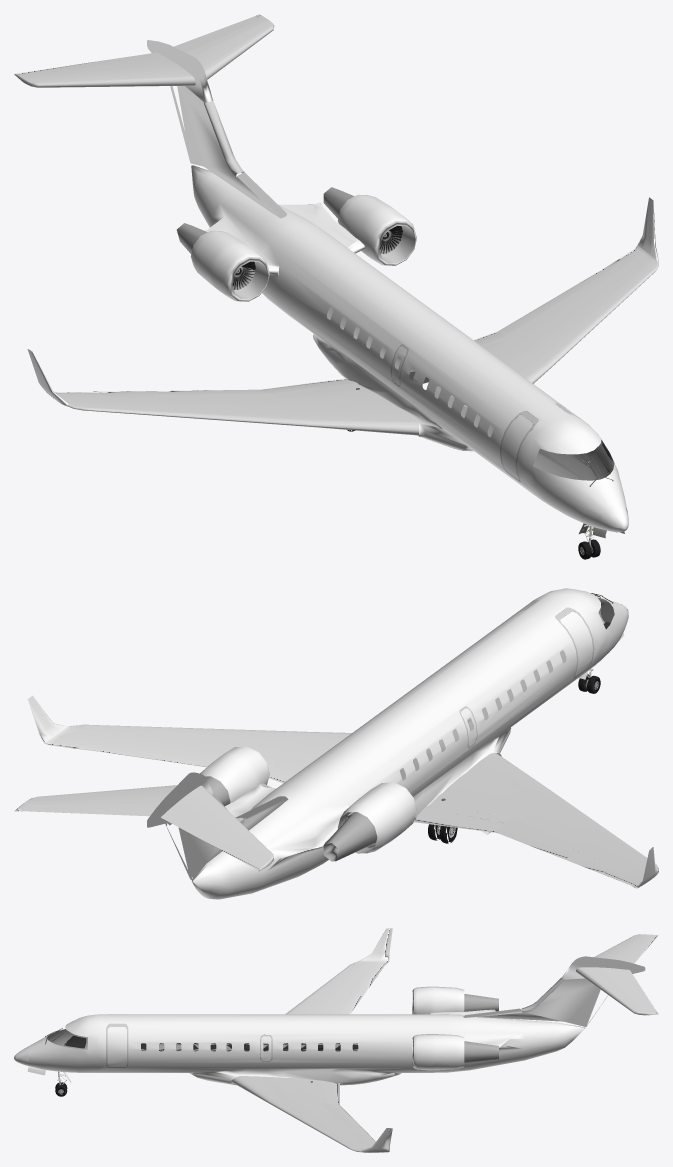
File: crj200.glb
3 views of the same model, one above another, from view 1: azimuth 30°, elevation 25°; view 2: azimuth 150°, elevation 25°; view 3: azimuth 270°, elevation 25° (orthographic). The views are drawn at different scales.
Visible parts, largest first — view 1: Material2 (×2); view 2: Material2; view 3: Material2 (×2).
Part boxes in pixels (box(x1,y1,x2,y2)): Material2 (×2): box(14, 14, 658, 557); Material2: box(14, 588, 658, 899); Material2 (×2): box(14, 928, 658, 1152).
Bounding box in the file's own units: 19.69 × 6.3 × 26.8.
Materials: 9 (8 with a texture image).
